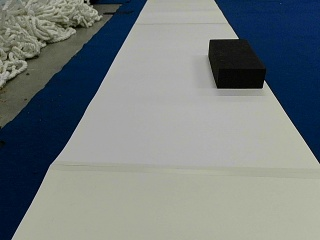block: (208, 39, 265, 89)
